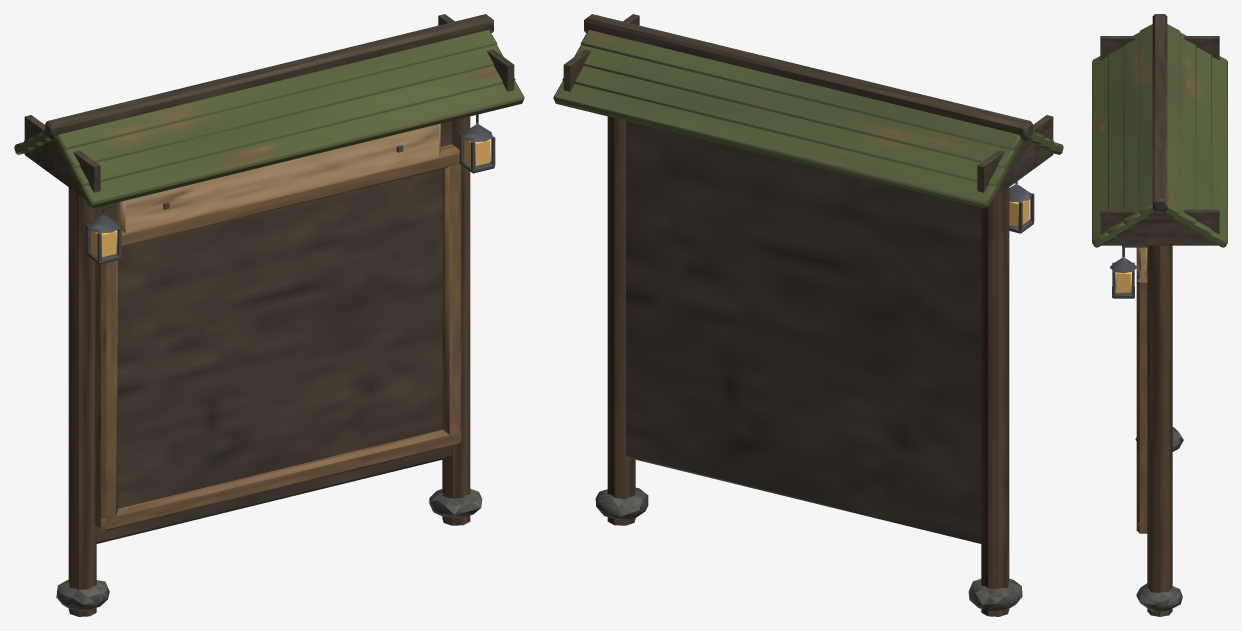
File: SM_Lobby_Leaderboard.fbx
The picture shows the model from 3 angles, left to right: view 1: azimuth 30°, elevation 25°; view 2: azimuth 150°, elevation 25°; view 3: azimuth 270°, elevation 25°; orthographic projection. The views are drawn at different scales.
Visible parts, largest first — view 1: SM_Lobby_Leaderboard; view 2: SM_Lobby_Leaderboard; view 3: SM_Lobby_Leaderboard.
Part boxes in pixels (box(x1,y1,x2,y2)): SM_Lobby_Leaderboard: box(14, 14, 524, 616); SM_Lobby_Leaderboard: box(553, 14, 1063, 616); SM_Lobby_Leaderboard: box(1092, 14, 1227, 616).
Size of the model in its own units: 13.3 by 14.21 by 4.1.
1 material, 1 textured.
